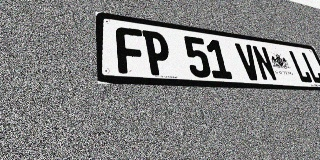1: (204, 39, 233, 79)
5: (183, 36, 213, 78)
F: (115, 26, 147, 75)
L: (288, 50, 313, 83), (300, 52, 320, 84)
N: (251, 45, 278, 81)
P: (142, 30, 173, 76)
V: (234, 43, 262, 81)
